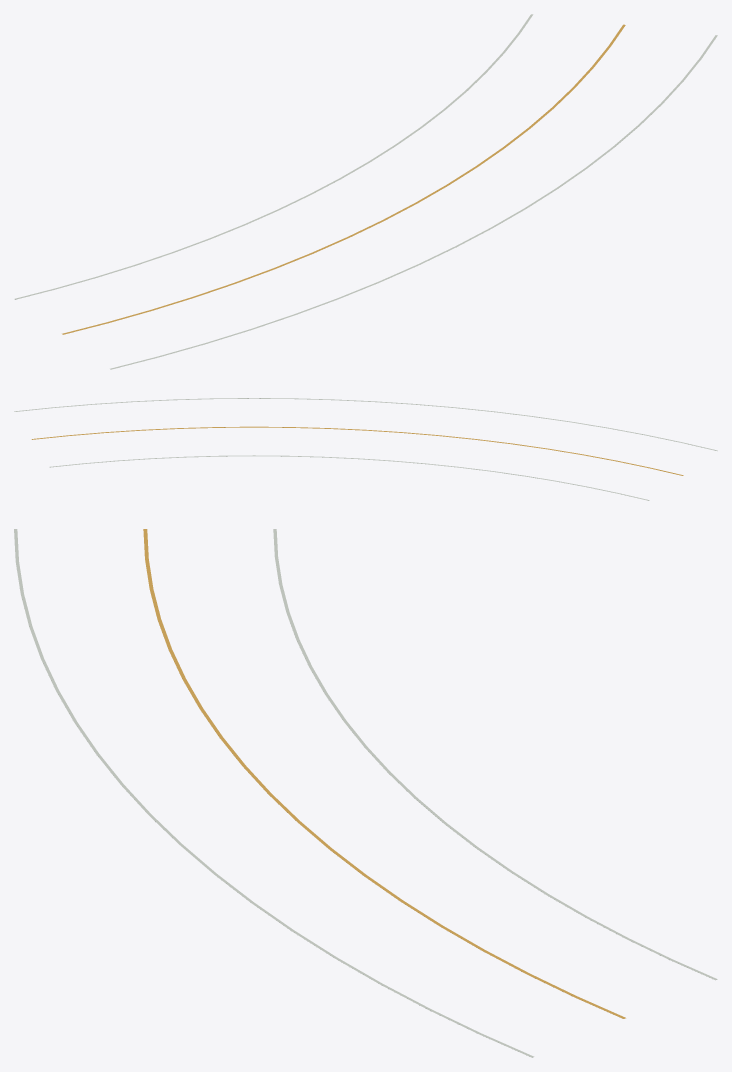
Rendered from RoadPlan_CurveMarking_2L_A45_R36.glb.
3 views of the same model, one above another, from view 1: azimuth 30°, elevation 25°; view 2: azimuth 150°, elevation 25°; view 3: azimuth 270°, elevation 25° (orthographic). The views are drawn at different scales.
Visible parts, largest first — view 1: RoadPlan_CurveMarking_2L_A45_R36_Center, RoadPlan_CurveMarking_2L_A45_R36_EdgeRight, RoadPlan_CurveMarking_2L_A45_R36_EdgeLeft; view 2: RoadPlan_CurveMarking_2L_A45_R36_Center, RoadPlan_CurveMarking_2L_A45_R36_EdgeRight, RoadPlan_CurveMarking_2L_A45_R36_EdgeLeft; view 3: RoadPlan_CurveMarking_2L_A45_R36_Center, RoadPlan_CurveMarking_2L_A45_R36_EdgeRight, RoadPlan_CurveMarking_2L_A45_R36_EdgeLeft.
Boxes of the visible parts, bbox=[...] form: RoadPlan_CurveMarking_2L_A45_R36_Center: bbox=[62, 24, 625, 334]; RoadPlan_CurveMarking_2L_A45_R36_EdgeRight: bbox=[110, 35, 717, 369]; RoadPlan_CurveMarking_2L_A45_R36_EdgeLeft: bbox=[14, 14, 533, 299]; RoadPlan_CurveMarking_2L_A45_R36_Center: bbox=[31, 426, 683, 475]; RoadPlan_CurveMarking_2L_A45_R36_EdgeRight: bbox=[14, 398, 717, 450]; RoadPlan_CurveMarking_2L_A45_R36_EdgeLeft: bbox=[49, 455, 649, 500]; RoadPlan_CurveMarking_2L_A45_R36_Center: bbox=[143, 529, 625, 1018]; RoadPlan_CurveMarking_2L_A45_R36_EdgeRight: bbox=[14, 529, 534, 1057]; RoadPlan_CurveMarking_2L_A45_R36_EdgeLeft: bbox=[273, 529, 717, 980].
Size of the model in its own units: 27.5 by 0.0007 by 15.47.
